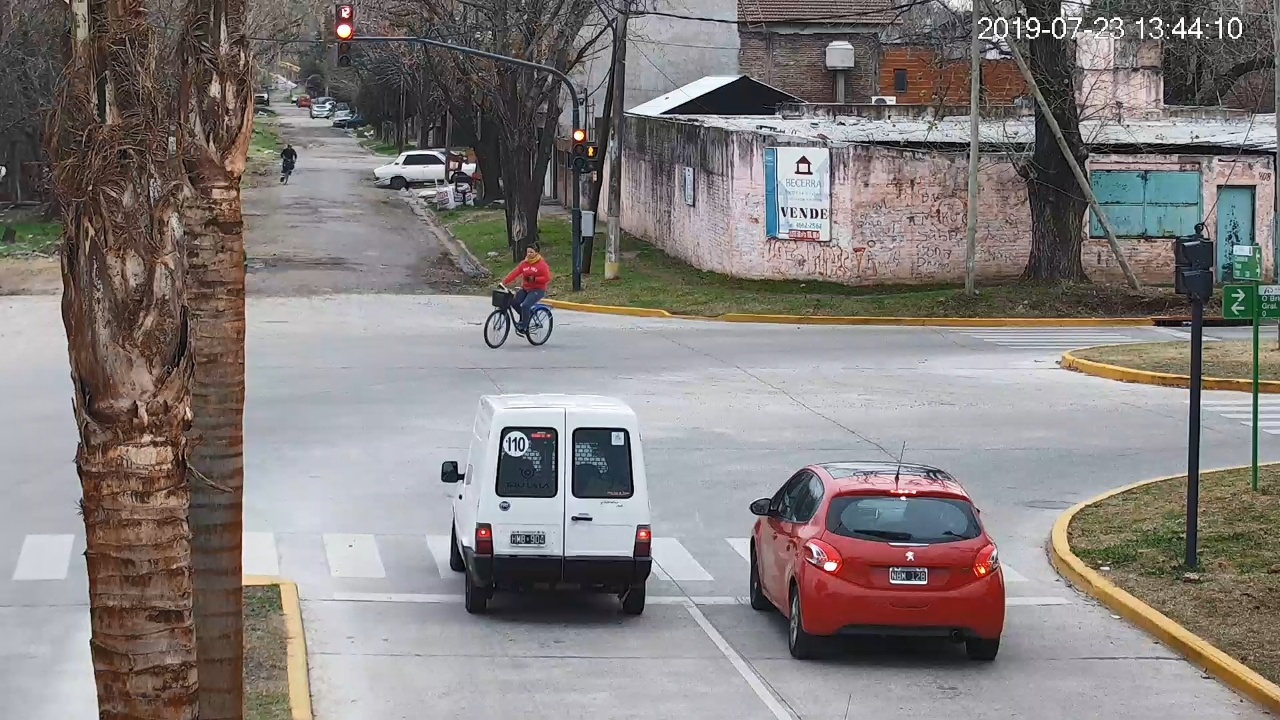car: (749, 462, 1006, 660), (441, 393, 653, 616)
front bicycle: (484, 241, 553, 348)
traffic light: (336, 24, 353, 66), (571, 129, 586, 169)
